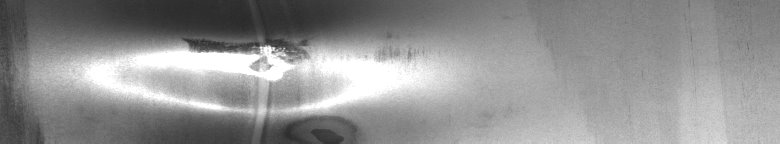ke: (112, 4, 424, 136)
